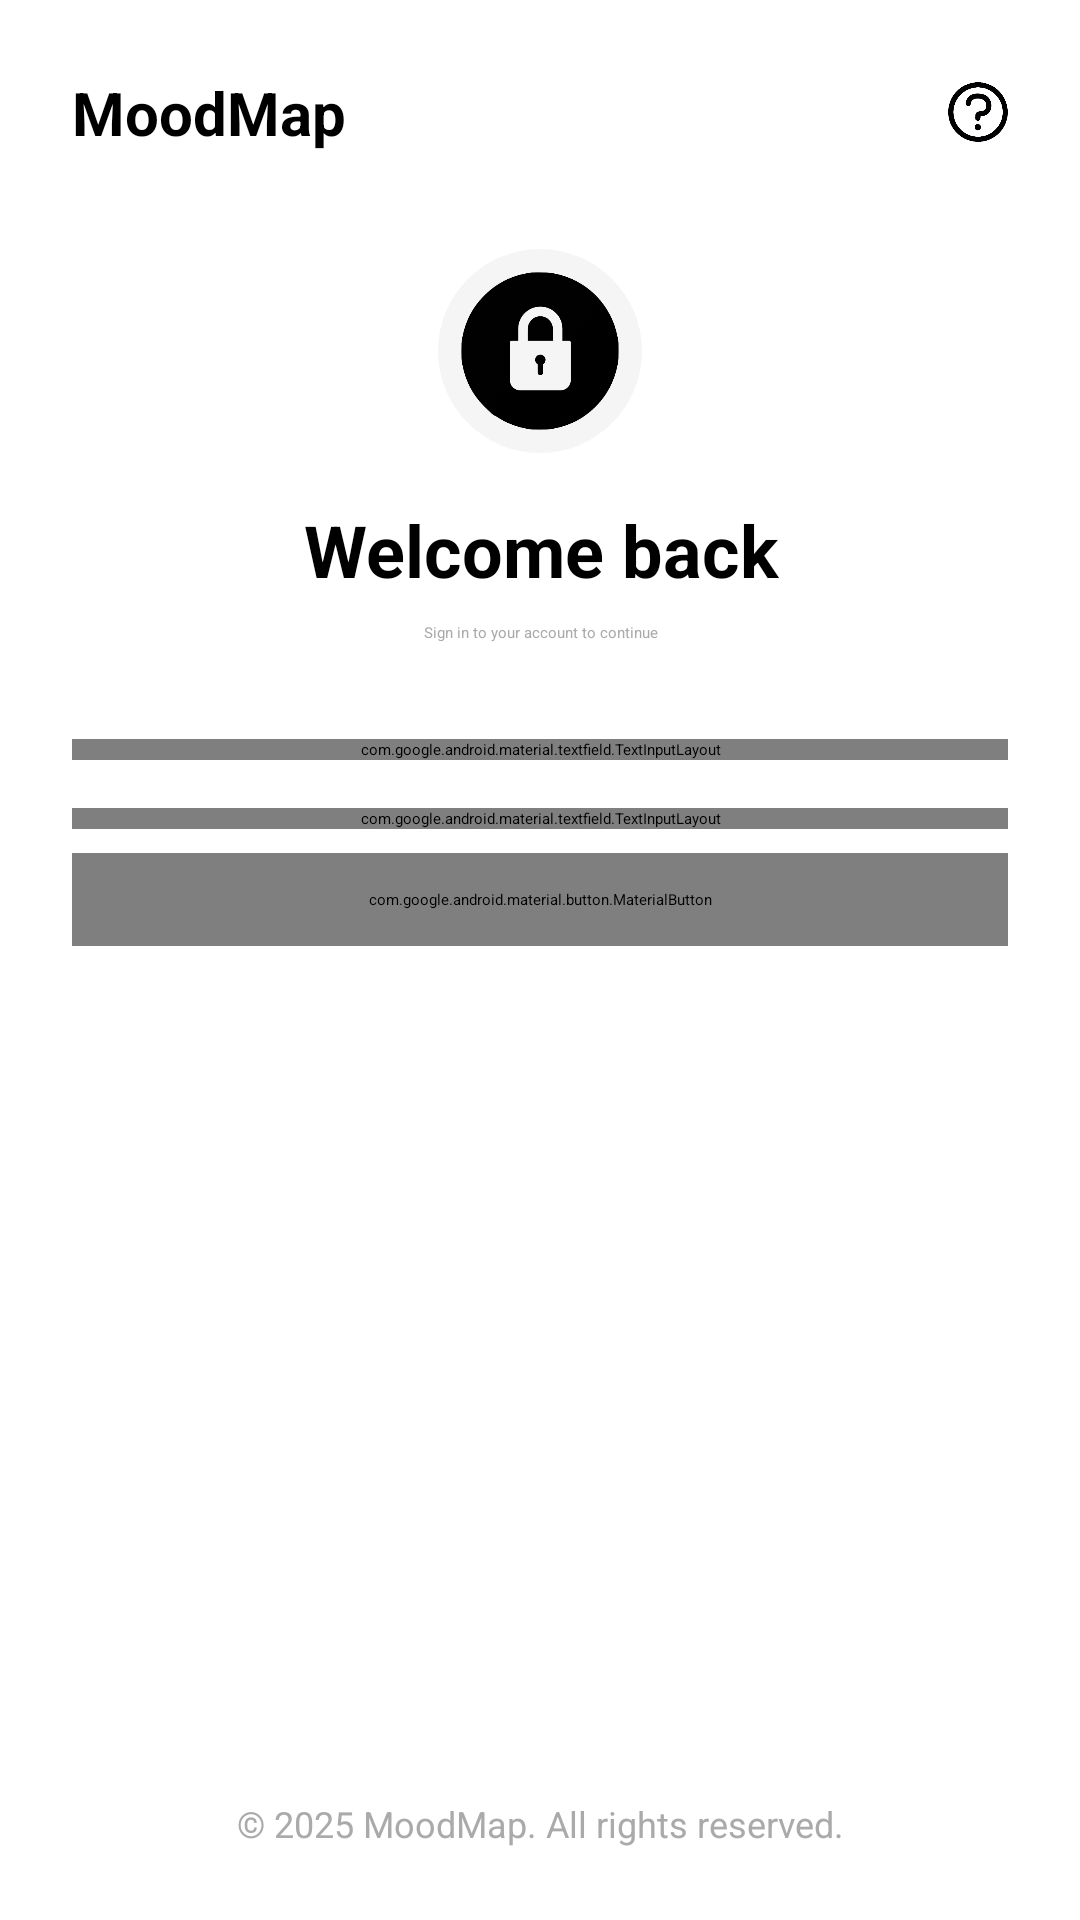

Locate icon controls on the screen. Image size 1080 x 1920, boxes as box=[x1, y1, x2, y2].
lock: box=[461, 272, 619, 430]
